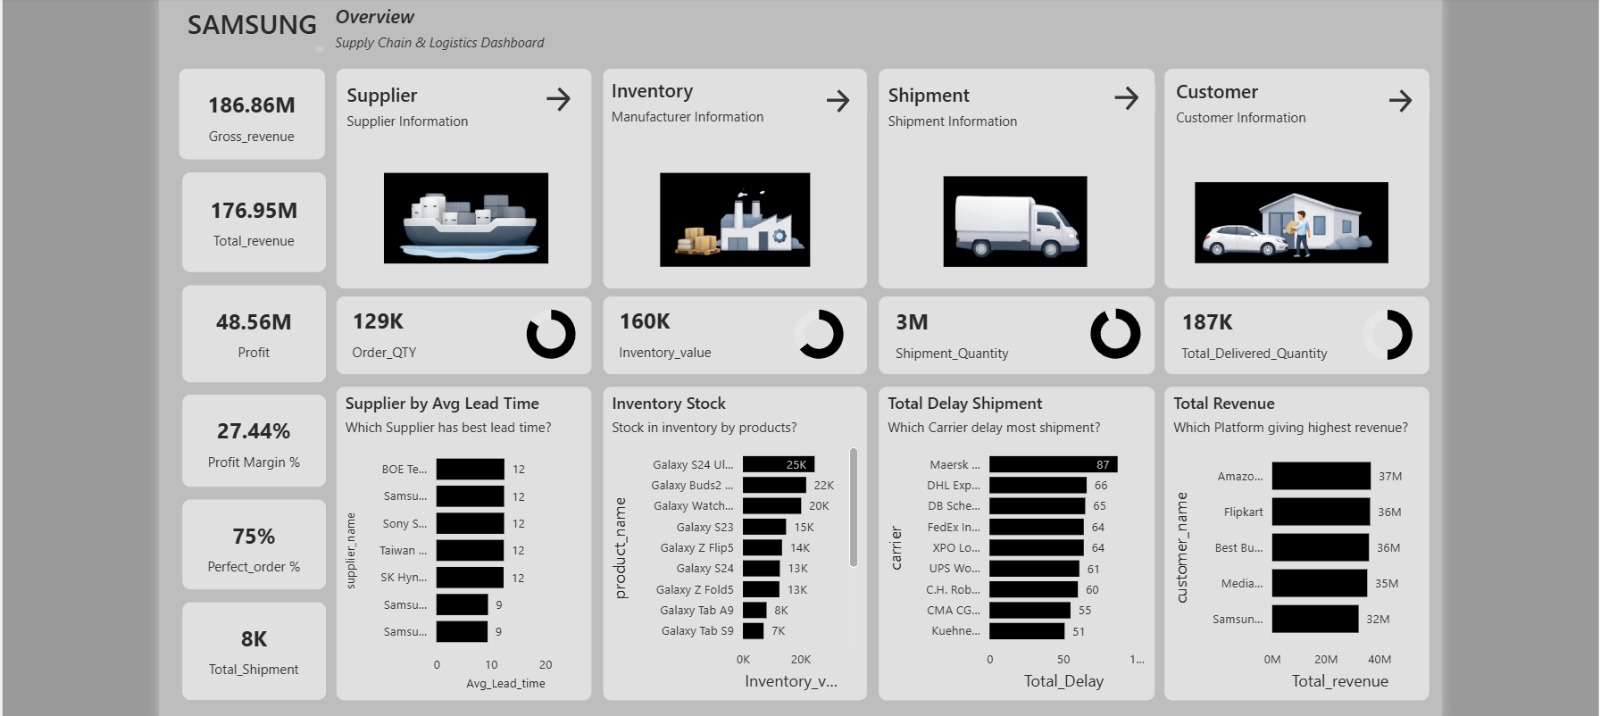

Layout of this report page (visuals, bound fields, positions):
{"tool":"powerbi","page":{"name":"Overview","canvas":[1280,720],"ordinal":1},"visuals":[{"type":"shape","box":[177.3,71.2,254.6,219.6],"z":0},{"type":"shape","box":[442.8,71.2,263,219.6],"z":1000},{"type":"shape","box":[717.8,71.2,275.1,219.6],"z":2000},{"type":"shape","box":[1002.6,71.2,264.2,219.6],"z":3000},{"type":"image","box":[168.9,170.1,273.9,100.1],"z":4000},{"type":"image","box":[431.9,170.1,285.9,103.8],"z":5000},{"type":"image","box":[705.8,173.7,296.8,100.1],"z":6000},{"type":"image","box":[1029.1,97.7,202.7,253.4],"z":7000},{"type":"actionButton","box":[377.6,80.8,49.5,41],"z":8000},{"type":"actionButton","box":[656.3,83.2,49.5,39.8],"z":9000},{"type":"actionButton","box":[943.4,79.6,49.5,41],"z":10000},{"type":"actionButton","box":[1217.3,83.2,49.5,39.8],"z":11000},{"type":"shape","title":"Supplier","box":[183.4,79.6,194.2,53.1],"z":12000},{"type":"shape","title":"Inventory","box":[447.6,76,194.2,54.3],"z":13000},{"type":"shape","title":"Shipment","box":[723.9,79.6,194.2,54.3],"z":14000},{"type":"shape","title":"Customer","box":[1011,77.2,194.2,53.1],"z":15000},{"type":"shape","title":"Overview","box":[176.1,6,217.2,51.9],"z":16000},{"type":"cardVisual","fields":{"Data":["Folder.Total_revenue"]},"box":[22.9,174.7,143.6,98.9],"z":17000},{"type":"cardVisual","fields":{"Data":["Folder.Perfect_order %"]},"box":[22.9,500.9,143.6,89.3],"z":18000},{"type":"cardVisual","fields":{"Data":["Folder.Profit"]},"box":[22.9,286.7,143.6,96.5],"z":19000},{"type":"cardVisual","fields":{"Data":["Folder.Profit Margin %"]},"box":[22.9,396.2,143.6,91.7],"z":20000},{"type":"cardVisual","fields":{"Data":["Folder.Total_Shipment"]},"box":[22.9,603.2,143.6,97.7],"z":21000},{"type":"cardVisual","fields":{"Data":["Sum(fact_sales.gross_revenue)"]},"box":[20.5,71.2,146,90.5],"z":22000},{"type":"shape","box":[177.3,298,254.6,77.2],"z":23000},{"type":"shape","box":[442.8,298,263,77.2],"z":24000},{"type":"shape","box":[717.8,298,275.1,77.2],"z":25000},{"type":"shape","box":[1002.6,298,264.2,77.2],"z":26000},{"type":"cardVisual","fields":{"Data":["Folder.Order_QTY"]},"box":[176.1,290.8,129.1,80.8],"z":27000},{"type":"cardVisual","fields":{"Data":["Folder.Inventory_value"]},"box":[441.6,290.8,129.1,80.8],"z":28000},{"type":"cardVisual","fields":{"Data":["Folder.Total_Shipment_Quantity"]},"box":[717.8,292,152,80.8],"z":29000},{"type":"cardVisual","fields":{"Data":["Folder.Total_Delivered_Quantity"]},"box":[1002.6,292,191.8,83.2],"z":30000},{"type":"clusteredBarChart","title":"Supplier by Avg Lead Time","fields":{"Y":["Folder.Avg_Lead_time"],"Category":["dim_supplier.supplier_name"]},"box":[177.3,388.5,254.6,312.5],"z":31000},{"type":"clusteredBarChart","title":"Inventory Stock","fields":{"Category":["dim_product.product_name"],"Y":["Folder.Inventory_value"]},"box":[442.8,388.5,263,312.5],"z":32000},{"type":"clusteredBarChart","title":"Total Delay Shipment","fields":{"Y":["Folder.Total_Delay"],"Category":["fact_shipment.carrier"]},"box":[717.8,388.5,275.1,312.5],"z":33000},{"type":"clusteredBarChart","title":"Total Revenue","fields":{"Y":["Folder.Total_revenue"],"Category":["dim_customer.customer_name"]},"box":[1002.6,388.5,264.2,312.5],"z":34000},{"type":"donutChart","fields":{"Y":["Folder.Inventory_value","Folder.Safety_stock"]},"box":[593.6,300.4,130.3,71.2],"z":35000},{"type":"donutChart","fields":{"Y":["Folder.Total_Shipment","Folder.Total_Delay"]},"box":[906,299.2,96.5,72.4],"z":36000},{"type":"donutChart","fields":{"Y":["Folder.Total_Delivered_Quantity","Folder.Total_QTY_Delay"]},"box":[1184.7,300.4,82,72.4],"z":37000},{"type":"donutChart","fields":{"Y":["Folder.Order_QTY","Folder.Defect_Rate"]},"box":[325.7,300.4,130.3,71.2],"z":38000},{"type":"textbox","title":"SAMSUNG","box":[22.9,7.2,146,51.9],"z":39000}]}

Visuals, with their boxes on the page's 1280x720 design canvas (x1, y1, x2, y2). These are canvas units, not pixel positions in the 1600x716 screenshot, which may show the page scaled, cropped or inside an application window:
shape: Rect(177, 71, 432, 291)
shape: Rect(443, 71, 706, 291)
shape: Rect(718, 71, 993, 291)
shape: Rect(1003, 71, 1267, 291)
image: Rect(169, 170, 443, 270)
image: Rect(432, 170, 718, 274)
image: Rect(706, 174, 1003, 274)
image: Rect(1029, 98, 1232, 351)
actionButton: Rect(378, 81, 427, 122)
actionButton: Rect(656, 83, 706, 123)
actionButton: Rect(943, 80, 993, 121)
actionButton: Rect(1217, 83, 1267, 123)
"Supplier" shape: Rect(183, 80, 378, 133)
"Inventory" shape: Rect(448, 76, 642, 130)
"Shipment" shape: Rect(724, 80, 918, 134)
"Customer" shape: Rect(1011, 77, 1205, 130)
"Overview" shape: Rect(176, 6, 393, 58)
cardVisual - Folder.Total_revenue: Rect(23, 175, 166, 274)
cardVisual - Folder.Perfect_order %: Rect(23, 501, 166, 590)
cardVisual - Folder.Profit: Rect(23, 287, 166, 383)
cardVisual - Folder.Profit Margin %: Rect(23, 396, 166, 488)
cardVisual - Folder.Total_Shipment: Rect(23, 603, 166, 701)
cardVisual - Sum(fact_sales.gross_revenue): Rect(20, 71, 166, 162)
shape: Rect(177, 298, 432, 375)
shape: Rect(443, 298, 706, 375)
shape: Rect(718, 298, 993, 375)
shape: Rect(1003, 298, 1267, 375)
cardVisual - Folder.Order_QTY: Rect(176, 291, 305, 372)
cardVisual - Folder.Inventory_value: Rect(442, 291, 571, 372)
cardVisual - Folder.Total_Shipment_Quantity: Rect(718, 292, 870, 373)
cardVisual - Folder.Total_Delivered_Quantity: Rect(1003, 292, 1194, 375)
"Supplier by Avg Lead Time" clusteredBarChart: Rect(177, 388, 432, 701)
"Inventory Stock" clusteredBarChart: Rect(443, 388, 706, 701)
"Total Delay Shipment" clusteredBarChart: Rect(718, 388, 993, 701)
"Total Revenue" clusteredBarChart: Rect(1003, 388, 1267, 701)
donutChart - Folder.Inventory_value x Folder.Safety_stock: Rect(594, 300, 724, 372)
donutChart - Folder.Total_Shipment x Folder.Total_Delay: Rect(906, 299, 1002, 372)
donutChart - Folder.Total_Delivered_Quantity x Folder.Total_QTY_Delay: Rect(1185, 300, 1267, 373)
donutChart - Folder.Order_QTY x Folder.Defect_Rate: Rect(326, 300, 456, 372)
"SAMSUNG" textbox: Rect(23, 7, 169, 59)
